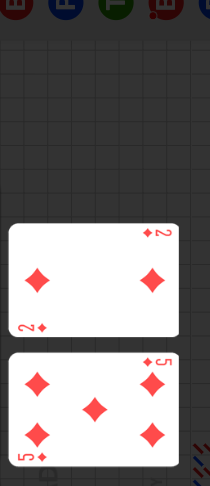2D: (141, 227, 174, 239)
9D: (141, 356, 174, 368)
